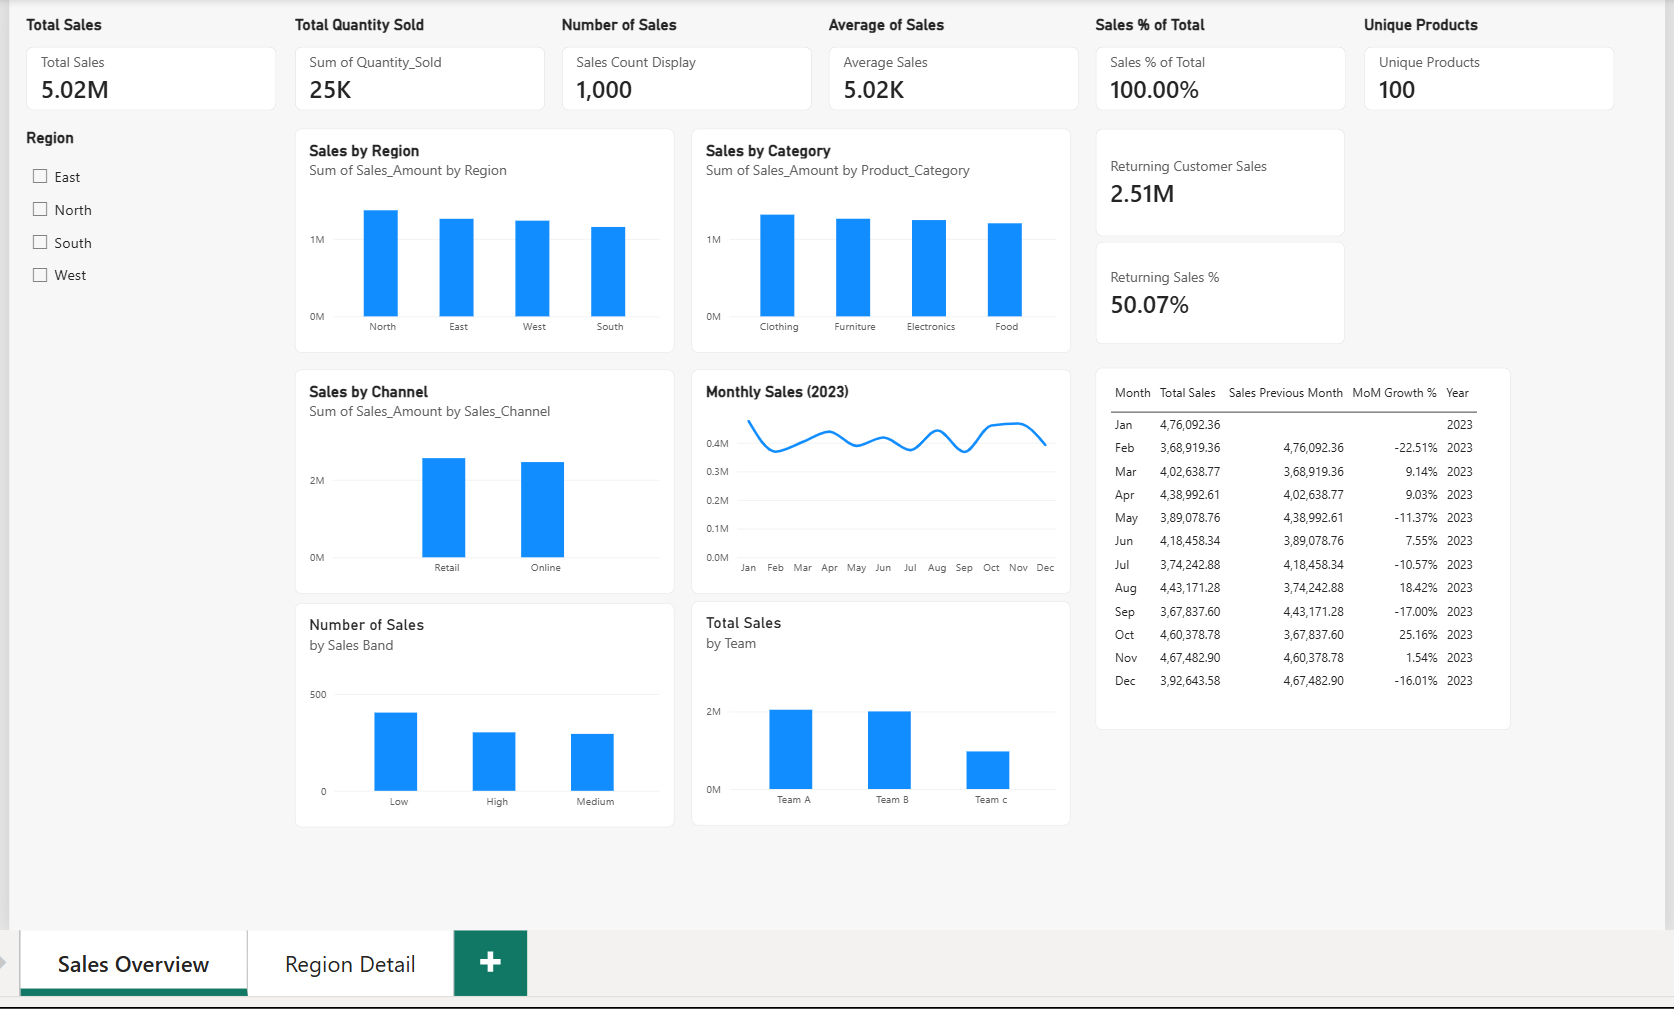

Layout of this report page (visuals, bound fields, positions):
{"tool":"powerbi","page":{"name":"Sales Overview","canvas":[1920,1080],"ordinal":0},"visuals":[{"type":"cardVisual","title":"Total Sales","fields":{"Data":["sales_data.Total Sales"]},"box":[20,20,290,110],"z":0},{"type":"clusteredColumnChart","title":"Sales by Region","fields":{"Category":["sales_data.Region"],"Y":["Sum(sales_data.Sales_Amount)"]},"box":[330,150,440,260],"z":1},{"type":"clusteredColumnChart","title":"Sales by Category","fields":{"Category":["sales_data.Product_Category"],"Y":["Sum(sales_data.Sales_Amount)"]},"box":[790,150,440,260],"z":2},{"type":"slicer","title":"Region","fields":{"Values":["sales_data.Region"]},"box":[20,150,290,250],"z":3},{"type":"columnChart","title":"Sales by Channel","fields":{"Category":["sales_data.Sales_Channel"],"Y":["Sum(sales_data.Sales_Amount)"]},"box":[330,430,440,260],"z":4},{"type":"cardVisual","title":"Total Quantity Sold","fields":{"Data":["Sum(sales_data.Quantity_Sold)"]},"box":[330,20,290,110],"z":5},{"type":"lineChart","title":"Monthly Sales (2023)","fields":{"Category":["Calendar.Month"],"Y":["Sum(sales_data.Sales_Amount)"]},"box":[790,430,440,260],"z":6},{"type":"cardVisual","title":"Number of Sales","fields":{"Data":["Calendar.Sales Count Display"]},"box":[640,20,290,110],"z":7},{"type":"cardVisual","title":"Average of Sales","fields":{"Data":["sales_data.Average Sales"]},"box":[950,20,290,110],"z":8},{"type":"cardVisual","title":"Sales % of Total","fields":{"Data":["sales_data.Sales % of Total"]},"box":[1260,20,290,110],"z":9},{"type":"cardVisual","fields":{"Data":["sales_data.Returning Customer Sales"]},"box":[1259.9,150.2,289.3,125.2],"z":10},{"type":"cardVisual","fields":{"Data":["sales_data.Returning Sales %"]},"box":[1259.9,280.9,289.3,119.6],"z":11},{"type":"tableEx","fields":{"Values":["Calendar.Month","sales_data.Total Sales","Calendar.Sales Previous Month","Calendar.MoM Growth %","Calendar.Year"]},"box":[1259.9,428.3,481.2,420],"z":12},{"type":"cardVisual","title":"Unique Products","fields":{"Data":["Calendar.Unique Products"]},"box":[1570,20,290,110],"z":13},{"type":"clusteredColumnChart","fields":{"Category":["sales_data.Sales Band"],"Y":["sales_data.Number of Sales"]},"box":[331,700,440,260],"z":14},{"type":"clusteredColumnChart","fields":{"Category":["Sales Reps.Team"],"Y":["sales_data.Total Sales"]},"box":[789.7,699.1,439,260.1],"z":15}]}

Visuals, with their boxes on the page's 1920x1080 design canvas (x1, y1, x2, y2). These are canvas units, not pixel positions in the 1674x1009 screenshot, which may show the page scaled, cropped or inside an application window:
"Total Sales" cardVisual: box(20, 20, 310, 130)
"Sales by Region" clusteredColumnChart: box(330, 150, 770, 410)
"Sales by Category" clusteredColumnChart: box(790, 150, 1230, 410)
"Region" slicer: box(20, 150, 310, 400)
"Sales by Channel" columnChart: box(330, 430, 770, 690)
"Total Quantity Sold" cardVisual: box(330, 20, 620, 130)
"Monthly Sales (2023)" lineChart: box(790, 430, 1230, 690)
"Number of Sales" cardVisual: box(640, 20, 930, 130)
"Average of Sales" cardVisual: box(950, 20, 1240, 130)
"Sales % of Total" cardVisual: box(1260, 20, 1550, 130)
cardVisual - sales_data.Returning Customer Sales: box(1260, 150, 1549, 275)
cardVisual - sales_data.Returning Sales %: box(1260, 281, 1549, 400)
tableEx - Calendar.Month x sales_data.Total Sales: box(1260, 428, 1741, 848)
"Unique Products" cardVisual: box(1570, 20, 1860, 130)
clusteredColumnChart - sales_data.Sales Band x sales_data.Number of Sales: box(331, 700, 771, 960)
clusteredColumnChart - Sales Reps.Team x sales_data.Total Sales: box(790, 699, 1229, 959)
